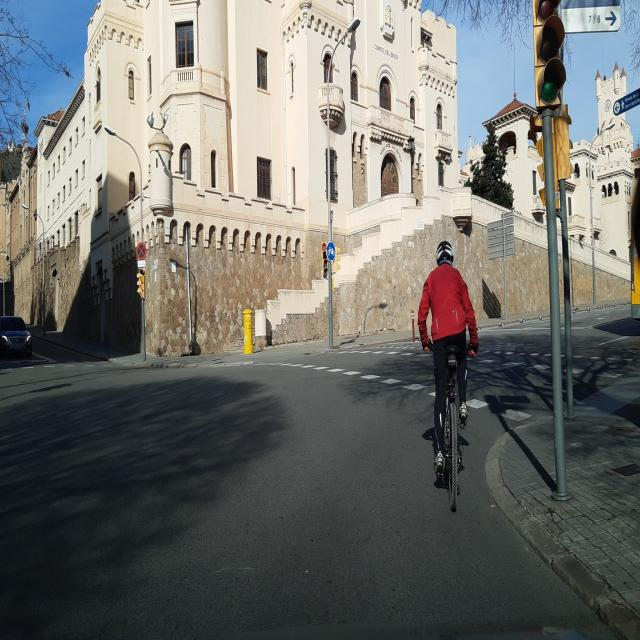bike: (424, 312, 474, 516)
car: (0, 314, 33, 358)
